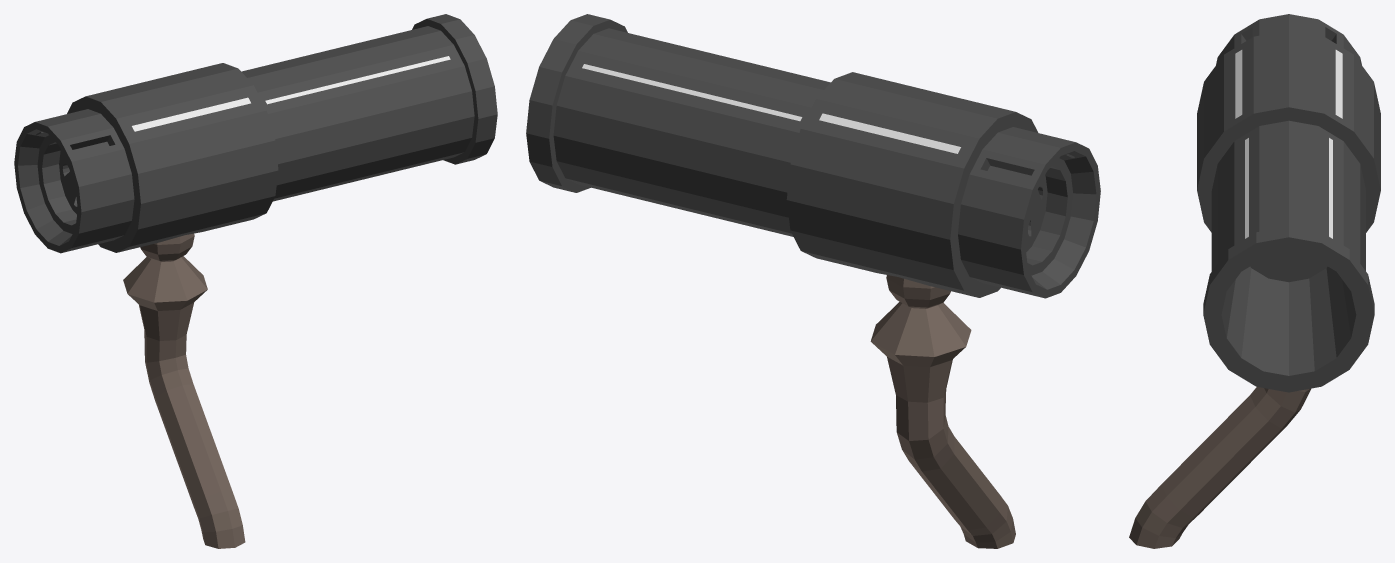
File: arma2.fbx
3 renders of one model, left to right at view 1: azimuth 30°, elevation 25°; view 2: azimuth 150°, elevation 25°; view 3: azimuth 270°, elevation 25°, orthographic. The views are drawn at different scales.
Parts seen in each view (by area): view 1: Canon, Base Fija, Flashes; view 2: Canon, Base Fija, Flashes; view 3: Canon, Base Fija, Flashes.
Boxes of the visible parts, x1,y1,x2,y2 form: Canon: [14, 14, 497, 253]; Base Fija: [123, 233, 245, 548]; Flashes: [132, 56, 450, 131]; Canon: [526, 14, 1100, 298]; Base Fija: [870, 275, 1015, 548]; Flashes: [582, 64, 960, 153]; Canon: [1197, 14, 1380, 392]; Base Fija: [1129, 387, 1310, 548]; Flashes: [1235, 50, 1342, 238].
Bounding box in the file's own units: 557 × 531 × 257.
